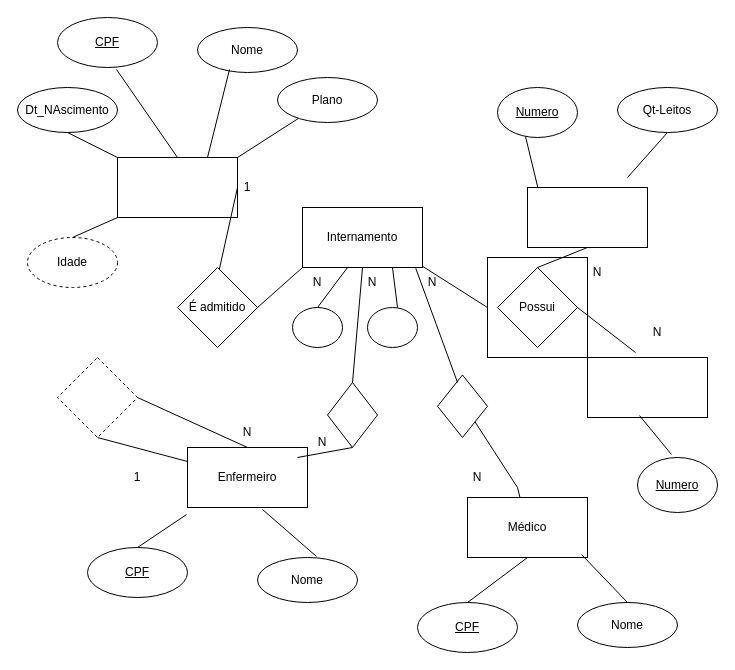
Image size: 735x670. Some labels were removed from this diagram. Each missing label, with the box of its shape:
Apartamento: (526, 186, 648, 248)
atende: (436, 374, 488, 438)
chefia: (56, 356, 138, 438)
cuida: (326, 382, 378, 448)
Dt Ent: (292, 306, 342, 348)
Dt Sai: (366, 306, 418, 348)
Leito: (586, 356, 708, 418)
Paciente: (116, 156, 238, 218)
